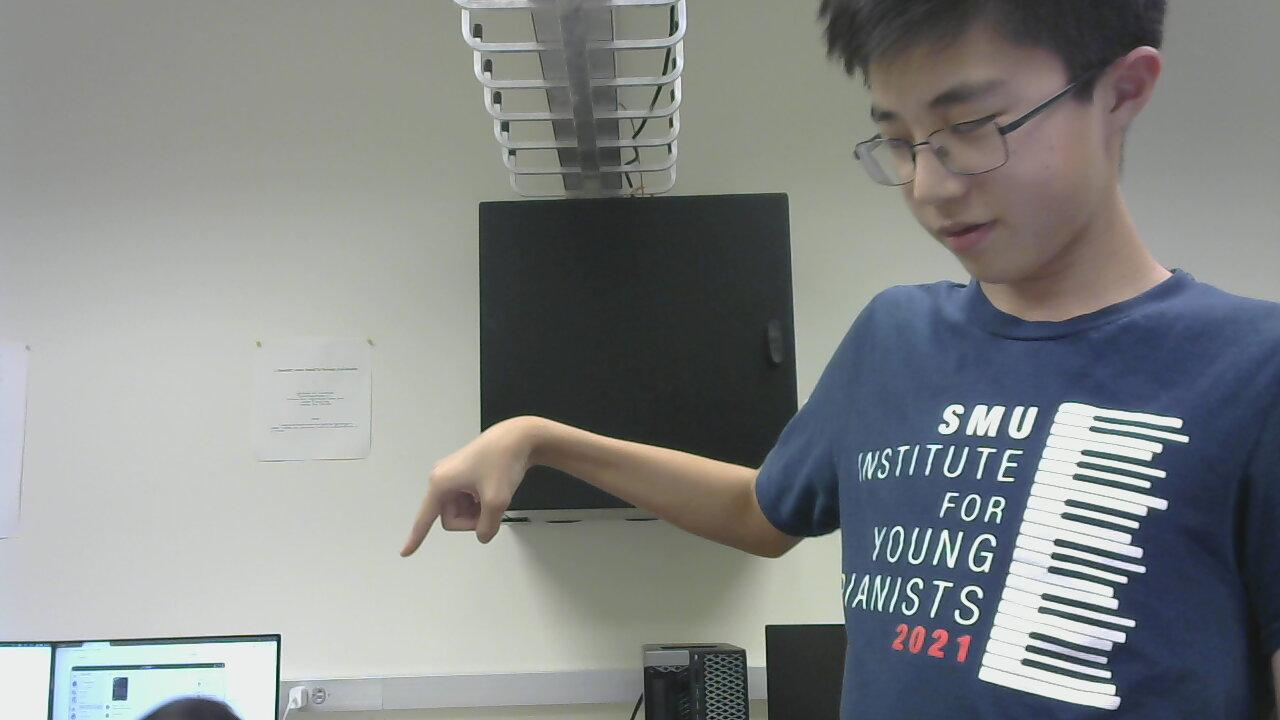hands: (395, 409, 535, 574)
